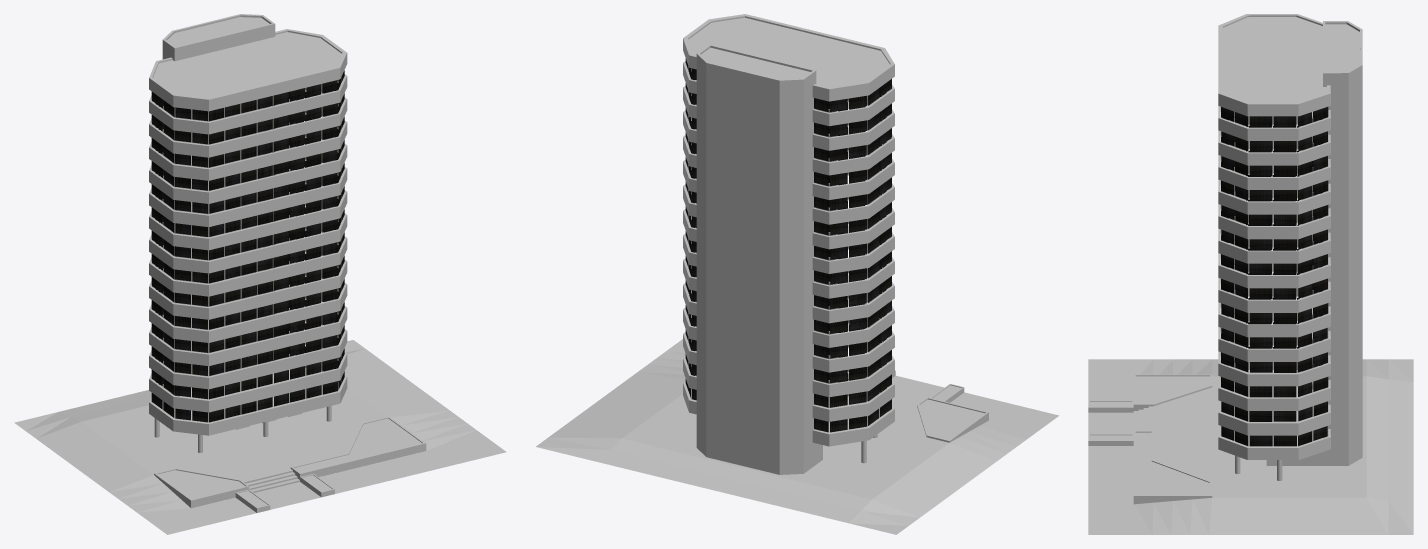
3 renders of one model, left to right at view 1: azimuth 30°, elevation 25°; view 2: azimuth 150°, elevation 25°; view 3: azimuth 270°, elevation 25°, orthographic. The views are drawn at different scales.
Parts seen in each view (by area): view 1: Building-BC-017, BC-017; view 2: Building-BC-017, BC-017; view 3: Building-BC-017, BC-017.
Part boxes in pixels (left/top/right/bottom): Building-BC-017: left=149, top=14, right=347, bottom=452; BC-017: left=14, top=340, right=506, bottom=534; Building-BC-017: left=683, top=14, right=894, bottom=474; BC-017: left=536, top=339, right=1059, bottom=534; Building-BC-017: left=1218, top=14, right=1362, bottom=480; BC-017: left=1088, top=359, right=1413, bottom=534.
Size of what is drawn, in the model's own units: 46 by 48.8 by 36.
